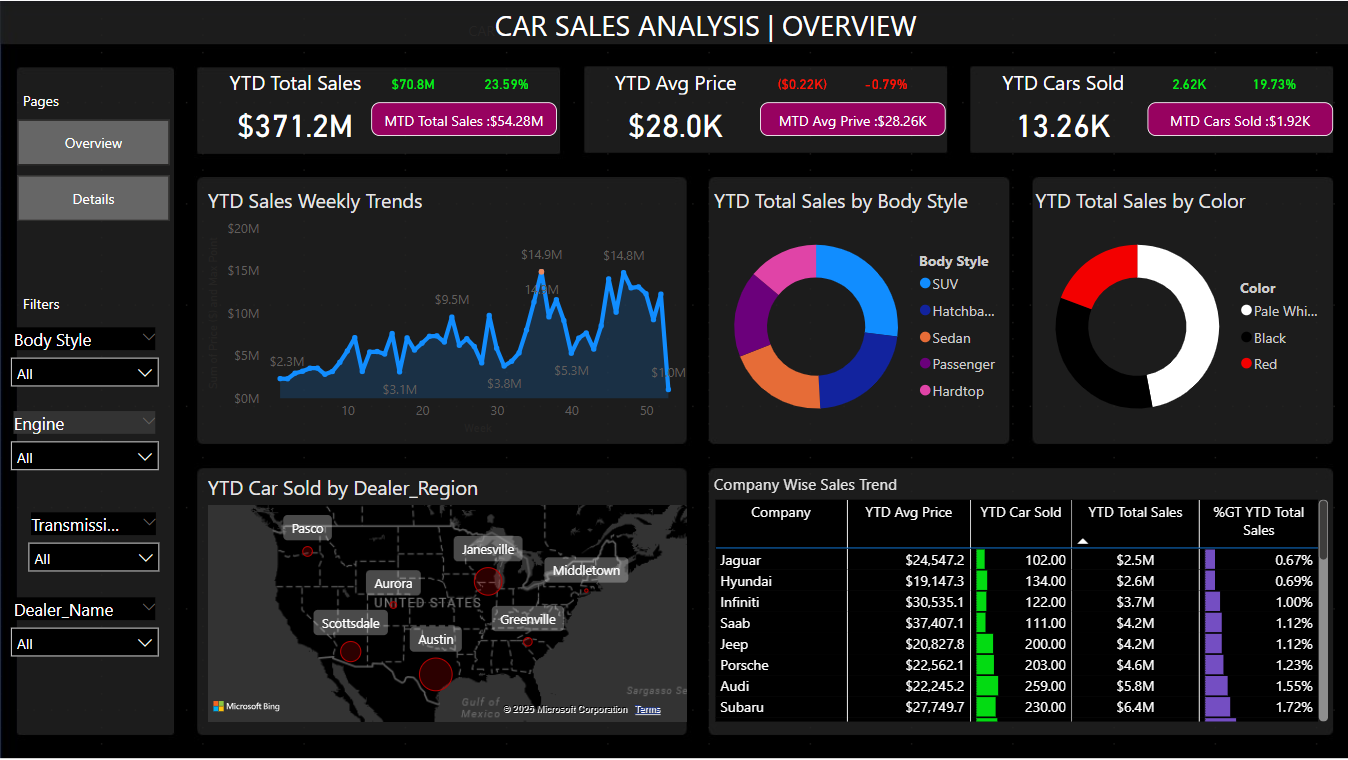

Layout of this report page (visuals, bound fields, positions):
{"tool":"powerbi","page":{"name":"Overview","canvas":[1280,720],"ordinal":0},"visuals":[{"type":"card","title":"YTD Total Sales","fields":{"Values":["car_data.YTD Total Sales"]},"box":[192,64,176,80],"z":0},{"type":"card","fields":{"Values":["car_data.Sales Difference"]},"box":[352,64,80,32],"z":1000},{"type":"card","fields":{"Values":["car_data.YOY Sales Growth"]},"box":[432,64,96,32],"z":2000},{"type":"card","fields":{"Values":["car_data.MTD KPI"]},"box":[352,96,176,32],"z":3000},{"type":"card","title":"YTD Avg Price","fields":{"Values":["car_data.YTD Avg Price"]},"box":[560,64,160,80],"z":4000},{"type":"card","fields":{"Values":["car_data.Avg Price Diff"]},"box":[720,64,80,32],"z":5000},{"type":"card","fields":{"Values":["car_data.YOY Avg Pricr Growth"]},"box":[800,64,80,32],"z":6000},{"type":"card","fields":{"Values":["car_data.MTD Avg Price KPI"]},"box":[720,96,176,32],"z":7000},{"type":"card","title":"YTD Cars Sold","fields":{"Values":["car_data.YTD Car Sold"]},"box":[928,64,160,80],"z":8000},{"type":"card","fields":{"Values":["car_data.Cars Sold Diff"]},"box":[1088,64,80,32],"z":9000},{"type":"card","fields":{"Values":["car_data.YOY Car Sold Growth"]},"box":[1168,64,80,32],"z":10000},{"type":"card","fields":{"Values":["car_data.MTD Cars Sold KPI"]},"box":[1088,96,176,32],"z":12000},{"type":"areaChart","title":"YTD Sales Weekly Trends","fields":{"Category":["Calender Table.Week"],"Y":["Sum(car_data.Price ($))","car_data.Max Point"]},"box":[192,176,464,240],"z":13000},{"type":"donutChart","fields":{"Category":["car_data.Body Style"],"Y":["car_data.YTD Total Sales"]},"box":[672,176,288,240],"z":14000},{"type":"donutChart","fields":{"Category":["car_data.Color"],"Y":["car_data.YTD Total Sales"]},"box":[976,176,288,240],"z":15000},{"type":"map","fields":{"Category":["car_data.Dealer_Region"],"Size":["car_data.YTD Car Sold"]},"box":[192,448,464,240],"z":16000},{"type":"tableEx","title":"Company Wise Sales Trend","fields":{"Values":["car_data.Company","car_data.YTD Avg Price","car_data.YTD Car Sold","car_data.YTD Total Sales1","car_data.YTD Total Sales"]},"box":[672,448,592,240],"z":17000},{"type":"textbox","box":[432,0,448,48],"z":18000},{"type":"slicer","fields":{"Values":["car_data.Body Style"]},"box":[0,304,160,80],"z":19000},{"type":"slicer","fields":{"Values":["car_data.Transmission"]},"box":[16,480,144,64],"z":20000},{"type":"slicer","fields":{"Values":["car_data.Dealer_Name"]},"box":[0,560,160,96],"z":21000},{"type":"slicer","fields":{"Values":["car_data.Engine"]},"box":[0,384,160,80],"z":22000},{"type":"textbox","box":[16,272,64,32],"z":23000},{"type":"pageNavigator","box":[16,112,144,96],"z":24000},{"type":"textbox","box":[16,80,64,32],"z":25000}]}

Visuals, with their boxes in screenshot pixels (x1, y1, x2, y2), scaled from the page's 1280x720 canvas onto the 1348x760 screenshot:
"YTD Total Sales" card: detection(202, 68, 388, 152)
card - car_data.Sales Difference: detection(371, 68, 455, 101)
card - car_data.YOY Sales Growth: detection(455, 68, 556, 101)
card - car_data.MTD KPI: detection(371, 101, 556, 135)
"YTD Avg Price" card: detection(590, 68, 758, 152)
card - car_data.Avg Price Diff: detection(758, 68, 843, 101)
card - car_data.YOY Avg Pricr Growth: detection(843, 68, 927, 101)
card - car_data.MTD Avg Price KPI: detection(758, 101, 944, 135)
"YTD Cars Sold" card: detection(977, 68, 1146, 152)
card - car_data.Cars Sold Diff: detection(1146, 68, 1230, 101)
card - car_data.YOY Car Sold Growth: detection(1230, 68, 1314, 101)
card - car_data.MTD Cars Sold KPI: detection(1146, 101, 1331, 135)
"YTD Sales Weekly Trends" areaChart: detection(202, 186, 691, 439)
donutChart - car_data.Body Style x car_data.YTD Total Sales: detection(708, 186, 1011, 439)
donutChart - car_data.Color x car_data.YTD Total Sales: detection(1028, 186, 1331, 439)
map - car_data.Dealer_Region x car_data.YTD Car Sold: detection(202, 473, 691, 726)
"Company Wise Sales Trend" tableEx: detection(708, 473, 1331, 726)
textbox: detection(455, 0, 927, 51)
slicer - car_data.Body Style: detection(0, 321, 168, 405)
slicer - car_data.Transmission: detection(17, 507, 168, 574)
slicer - car_data.Dealer_Name: detection(0, 591, 168, 692)
slicer - car_data.Engine: detection(0, 405, 168, 490)
textbox: detection(17, 287, 84, 321)
pageNavigator: detection(17, 118, 168, 220)
textbox: detection(17, 84, 84, 118)
